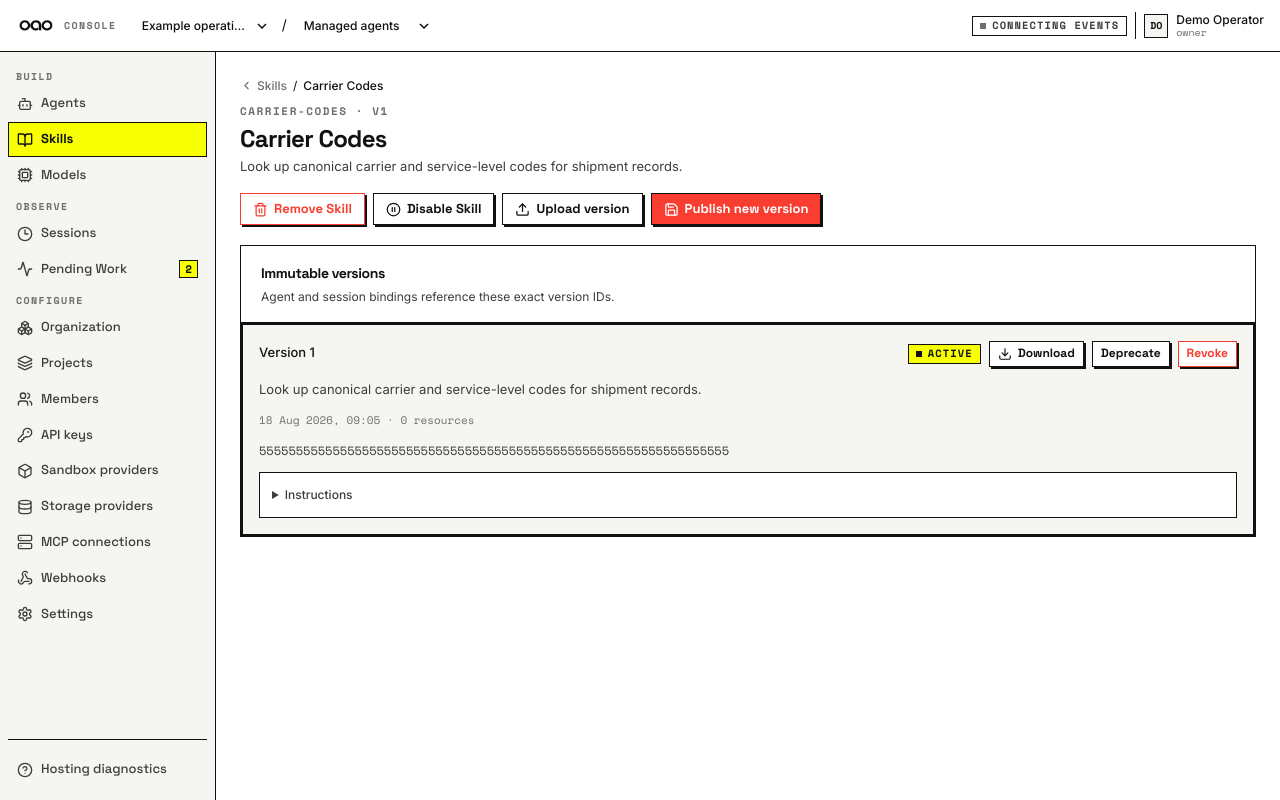
Test: management console › disables a Skill, hides it from the agent picker, and enables it again
Expected: the heading "Carrier Codes" is shown, [240, 123, 387, 154]
Click the button "Disable Skill" at coordinates (434, 209), box [373, 193, 494, 225]
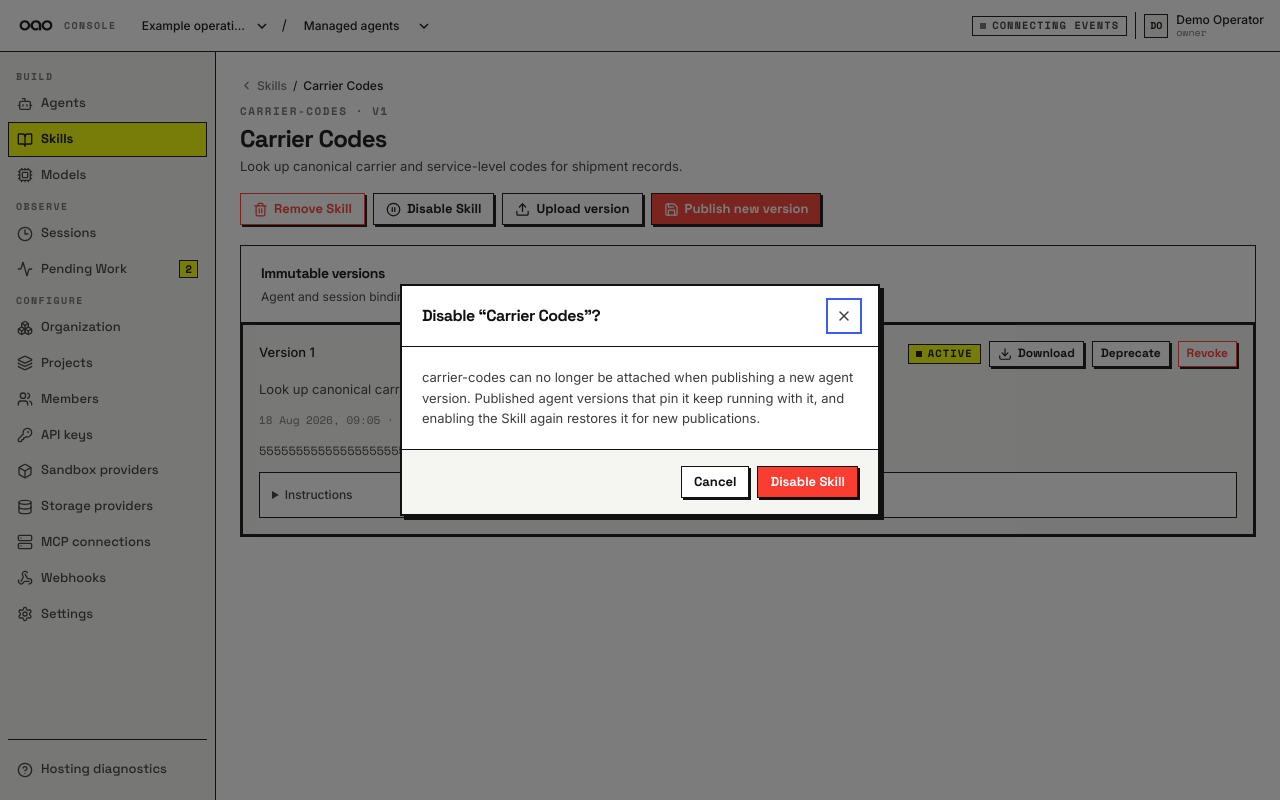
Result: the text "enabling the Skill again restores it for new publications" is shown at [422, 369, 853, 426]
Click the button "Disable Skill" at coordinates (808, 482), box [758, 466, 858, 498]
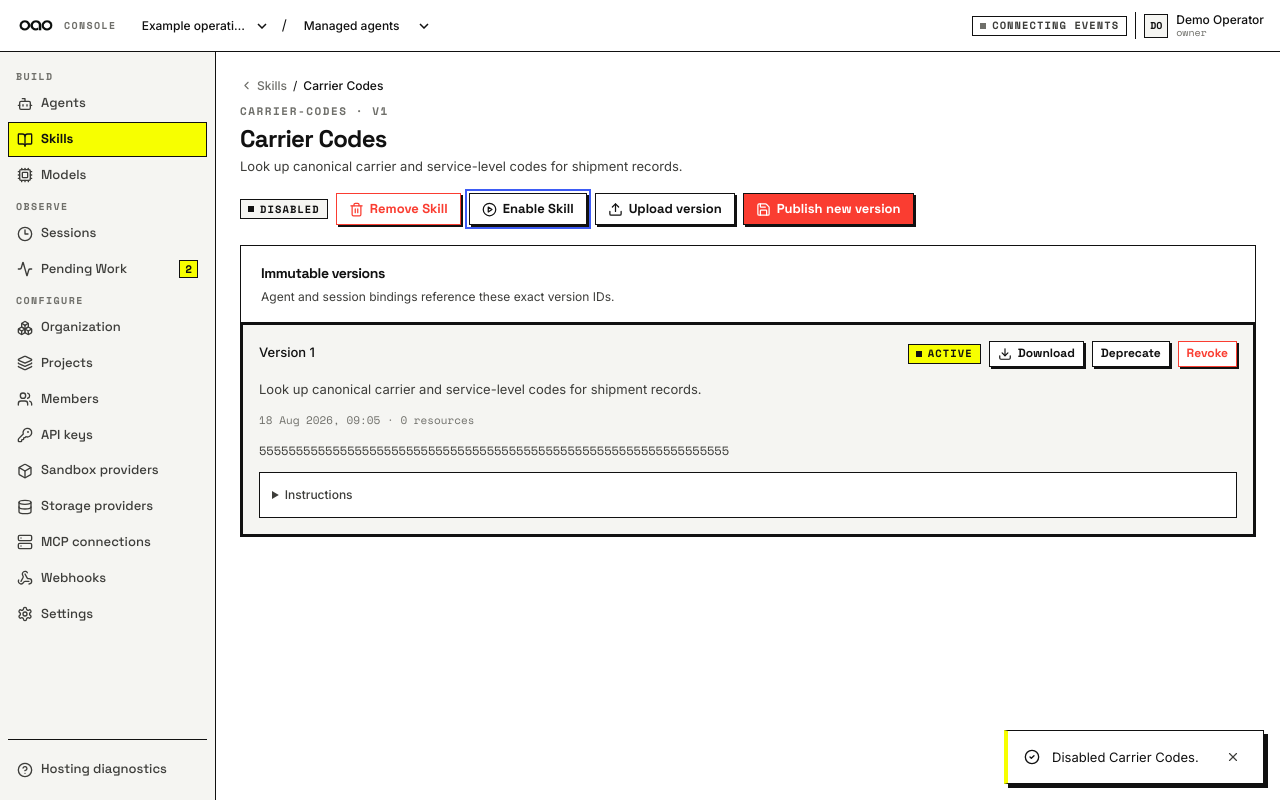
Result: the button "Enable Skill" is shown
Result: the text "disabled" is shown at [240, 199, 328, 219]
Click the button "Enable Skill" at coordinates (528, 209), box [469, 193, 587, 225]
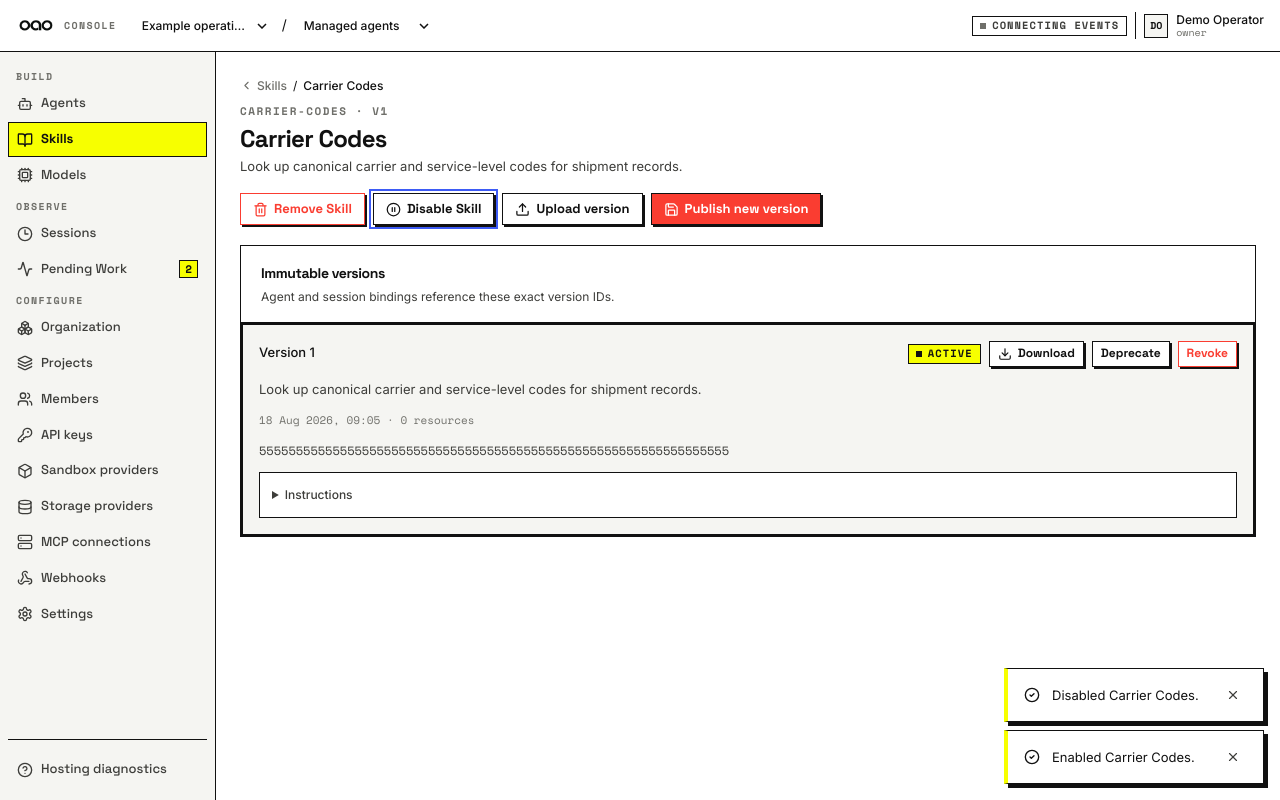
Result: the button "Disable Skill" is shown at [373, 193, 494, 225]
